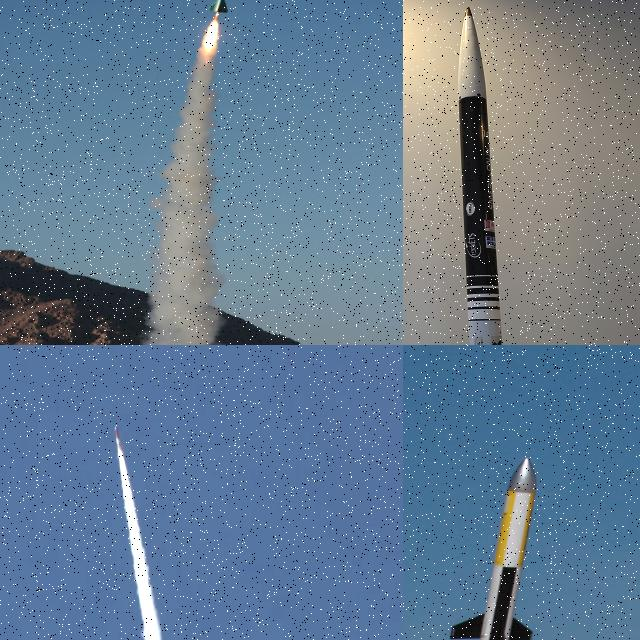Rocket: (438, 456, 539, 640), (458, 6, 503, 345), (114, 425, 124, 453)
